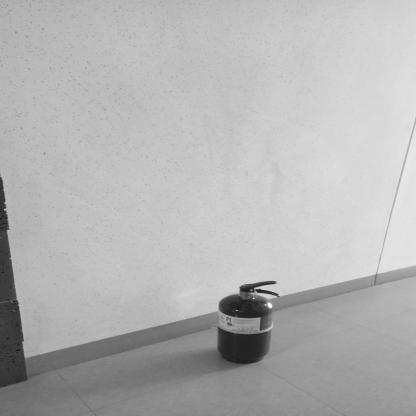FE: (220, 282, 279, 363)
